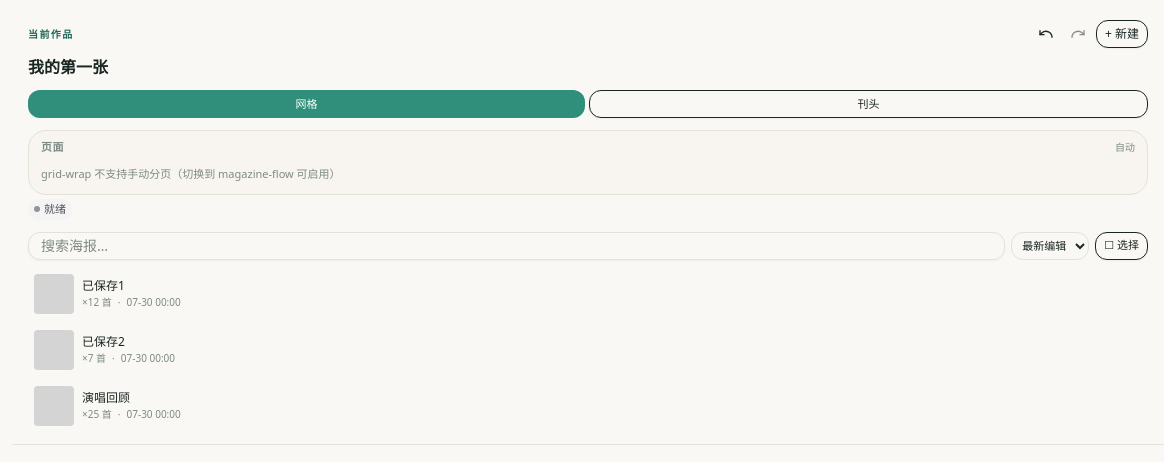
Test case: PostersSidebar - 右键菜单 › 点击菜单外（document click）关闭菜单
Right-click the button "已保存1 ×12 首 · 07-30 00:00" at (107, 294), box x1=34 y1=274 x2=181 y2=314
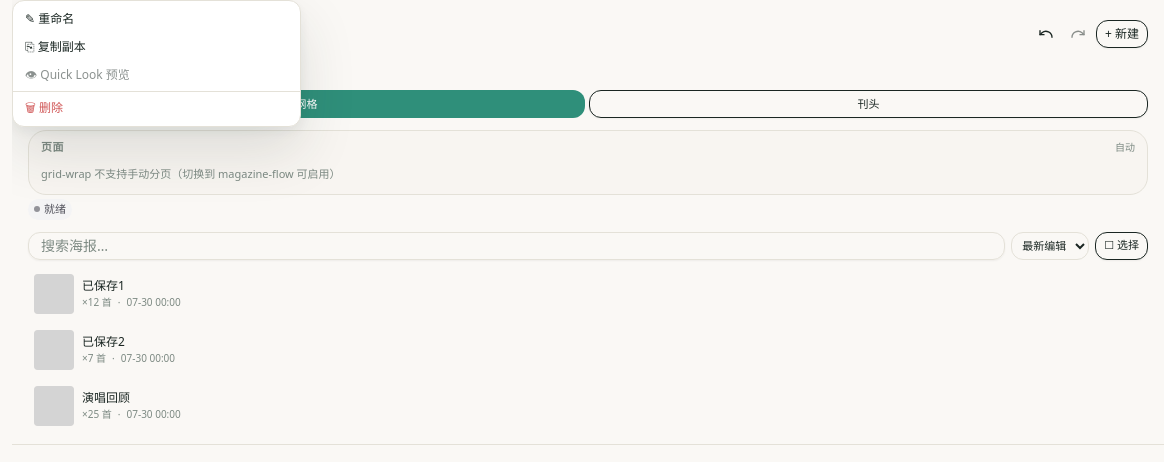
Result: the menu with test id "poster-context-menu" is shown at x1=12 y1=0 x2=301 y2=127
Click the element that starts with "当前作品" at (588, 222), box x1=12 y1=0 x2=1163 y2=444
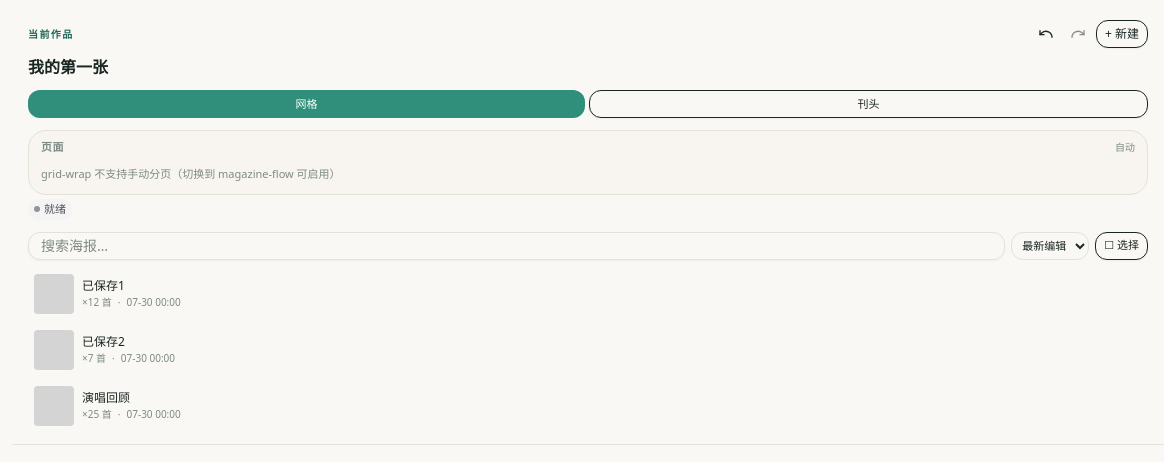
Result: the menu with test id "poster-context-menu" is gone
